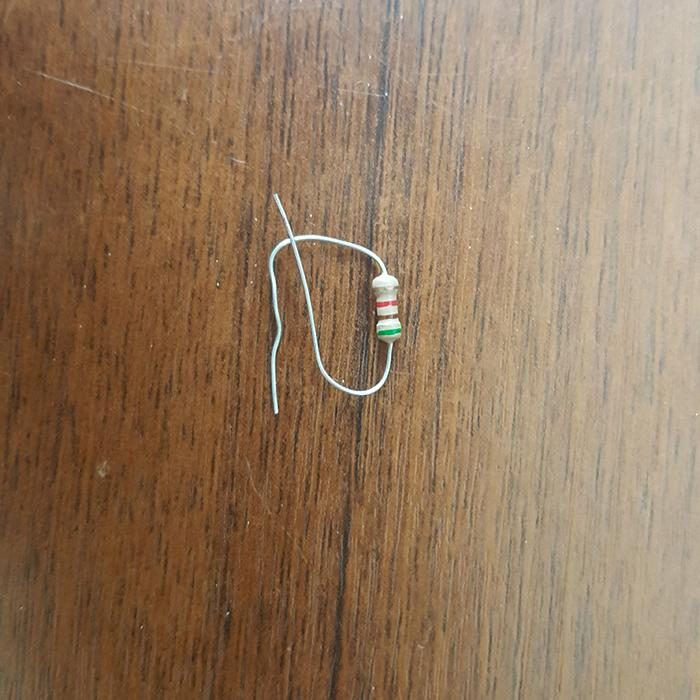resistor: (372, 273, 402, 342)
